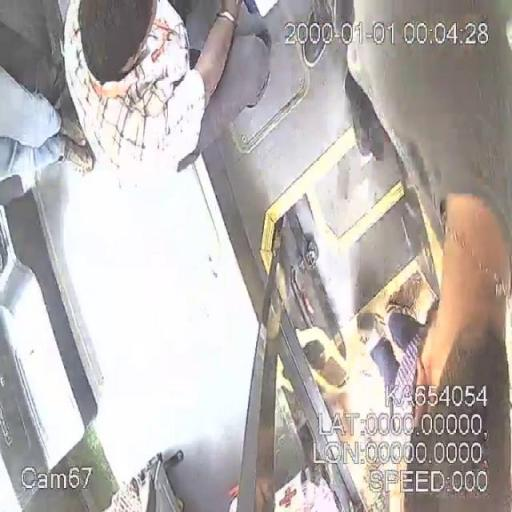persona: (303, 0, 510, 510), (58, 0, 246, 184), (356, 287, 419, 419)
